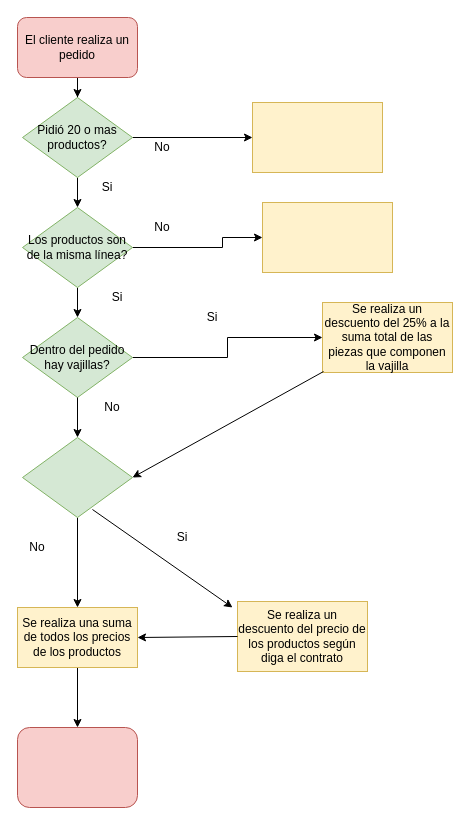
The diagram is 470 pixels wide and 825 high, and some of its shapes have lost their labels. The centre of each missing label's shape, as x and y in pixels:
"Cancelar pedido" goes at point 327,237.
"El Cliente posee un contrato" goes at point 77,477.
"Imprimir un mensaje de alerta que le notifique que son mínimo 20 productos" goes at point 317,137.
"Se genera la factura con el precio total" goes at point 77,767.
